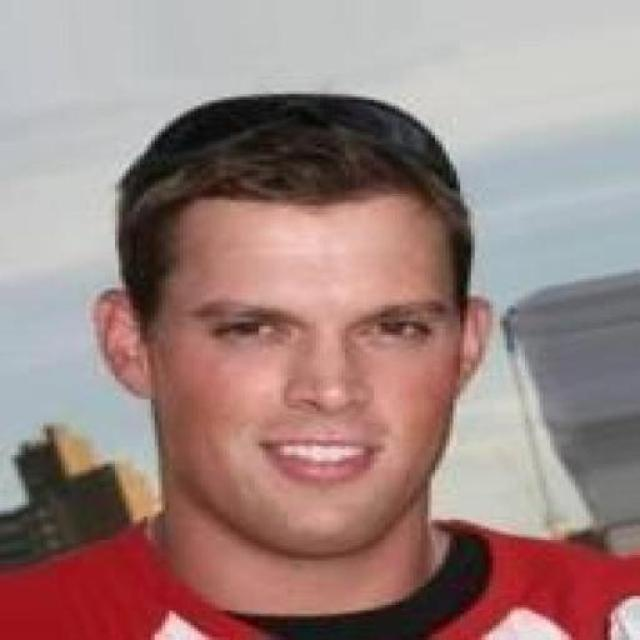bareface: (144, 202, 464, 548)
